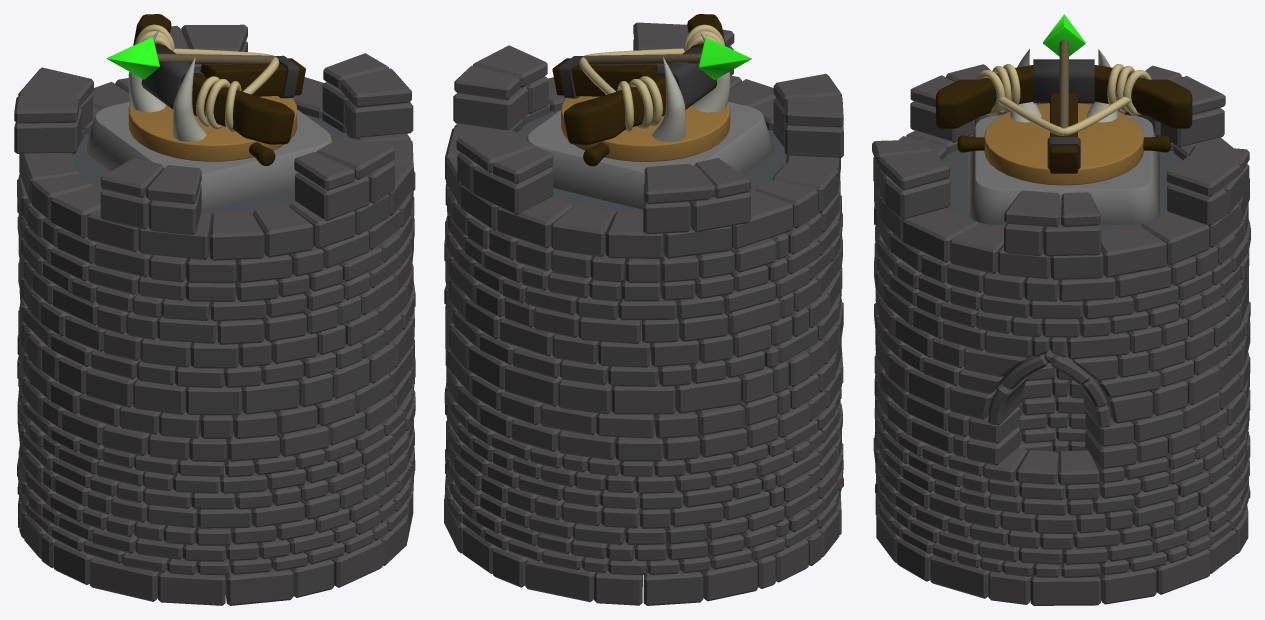
The model's file is Poison Tower.fbx.
3 renders of one model, left to right at view 1: azimuth 30°, elevation 25°; view 2: azimuth 150°, elevation 25°; view 3: azimuth 270°, elevation 25°, orthographic. The views are drawn at different scales.
Visible parts, largest first — view 1: Tower, Base.2, Base, Cube.003, NurbsPath, Base tower, Rope, Cube.001, Cube.004, Arrow Head, Shaft, NurbsPath.001 (+1 smaller); view 2: Tower, Base.2, Base, Cube.003, NurbsPath, Base tower, Rope, Cube.001, Cube.004, Arrow Head, Shaft, NurbsPath.001 (+1 smaller); view 3: Tower, Base, Base.2, Cube.003, Rope, Base tower, Cube.004, Cube.001, NurbsPath.001, Arrow Head, NurbsPath, Shaft (+1 smaller).
Part boxes in pixels (left/top/right/bottom): Tower: left=14, top=24, right=415, bottom=605; Base.2: left=85, top=101, right=332, bottom=212; Base: left=128, top=96, right=297, bottom=161; Cube.003: left=133, top=14, right=294, bottom=144; NurbsPath: left=128, top=30, right=206, bottom=141; Base tower: left=74, top=114, right=348, bottom=229; Rope: left=135, top=24, right=241, bottom=132; Cube.001: left=200, top=58, right=305, bottom=96; Cube.004: left=141, top=48, right=204, bottom=109; Arrow Head: left=106, top=37, right=159, bottom=79; Shaft: left=157, top=53, right=275, bottom=65; NurbsPath.001: left=173, top=48, right=279, bottom=94; Tower: left=444, top=22, right=843, bottom=605; Base.2: left=526, top=101, right=773, bottom=209; Base: left=561, top=96, right=730, bottom=161; Cube.003: left=563, top=14, right=725, bottom=144; NurbsPath: left=652, top=30, right=730, bottom=142; Base tower: left=517, top=111, right=786, bottom=215; Rope: left=617, top=24, right=724, bottom=132; Cube.001: left=552, top=58, right=657, bottom=96; Cube.004: left=654, top=48, right=716, bottom=109; Arrow Head: left=698, top=37, right=751, bottom=79; Shaft: left=583, top=54, right=701, bottom=65; NurbsPath.001: left=579, top=48, right=684, bottom=94; Tower: left=872, top=64, right=1250, bottom=605; Base: left=984, top=103, right=1143, bottom=185; Base.2: left=968, top=115, right=1159, bottom=224; Cube.003: left=936, top=65, right=1192, bottom=128; Rope: left=975, top=64, right=1151, bottom=115; Base tower: left=942, top=149, right=1182, bottom=231; Cube.004: left=1033, top=59, right=1094, bottom=103; Cube.001: left=1050, top=93, right=1077, bottom=173; NurbsPath.001: left=997, top=96, right=1131, bottom=135; Arrow Head: left=1043, top=14, right=1085, bottom=56; NurbsPath: left=1010, top=49, right=1118, bottom=122; Shaft: left=1059, top=40, right=1068, bottom=128.
Size of the model in its own units: 275 by 379 by 275.
